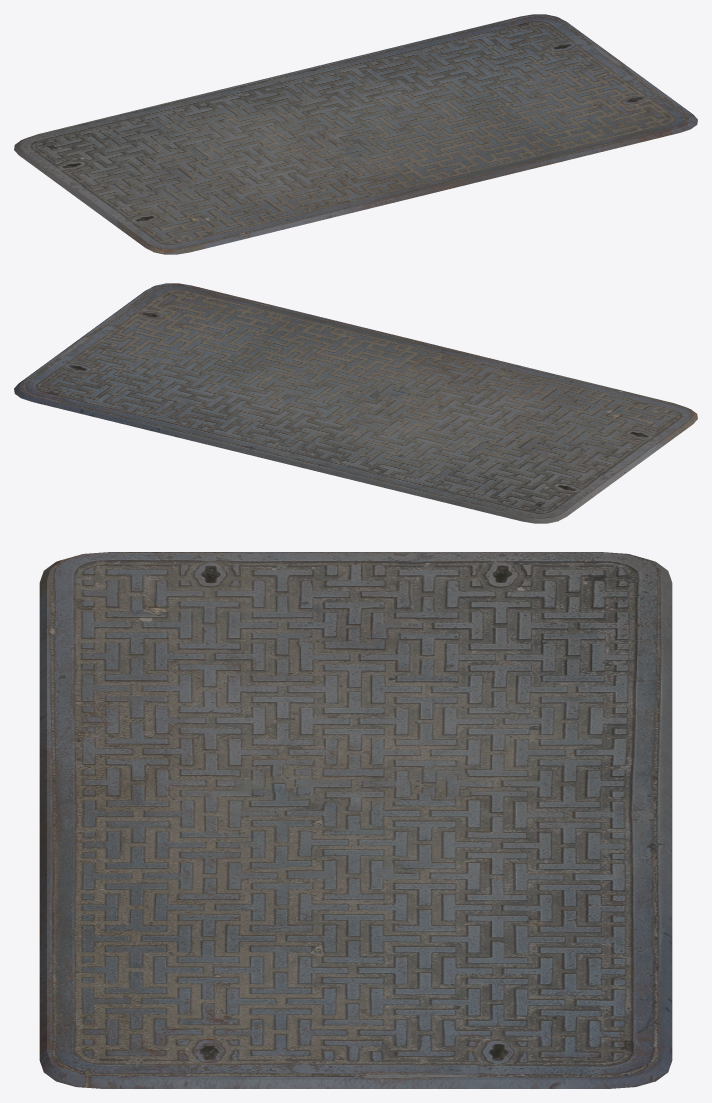
Rendered from utilityholeA_rect.fbx.
The picture shows the model from 3 angles, top to bottom: view 1: azimuth 30°, elevation 25°; view 2: azimuth 150°, elevation 25°; view 3: azimuth 270°, elevation 25°; orthographic projection. The views are drawn at different scales.
Parts seen in each view (by area): view 1: utilityholeA_rect; view 2: utilityholeA_rect; view 3: utilityholeA_rect.
Part boxes in pixels (left/top/right/bottom): utilityholeA_rect: left=14, top=14, right=697, bottom=254; utilityholeA_rect: left=14, top=283, right=697, bottom=523; utilityholeA_rect: left=39, top=552, right=672, bottom=1088.
Bounding box in the file's own units: 100 × 0.4967 × 50.
Materials: 1 (1 with a texture image).
